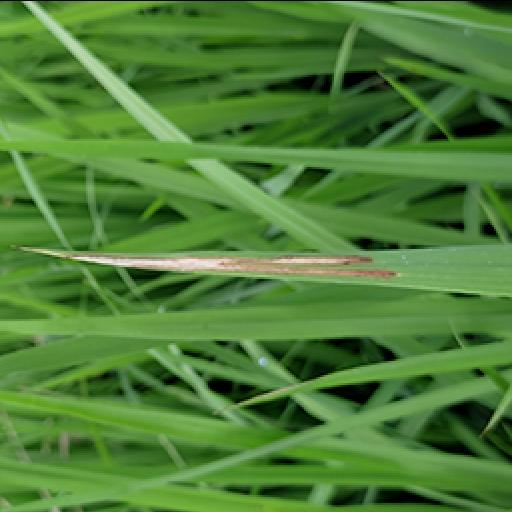Leaf Blast Disease: (26, 236, 408, 290)
